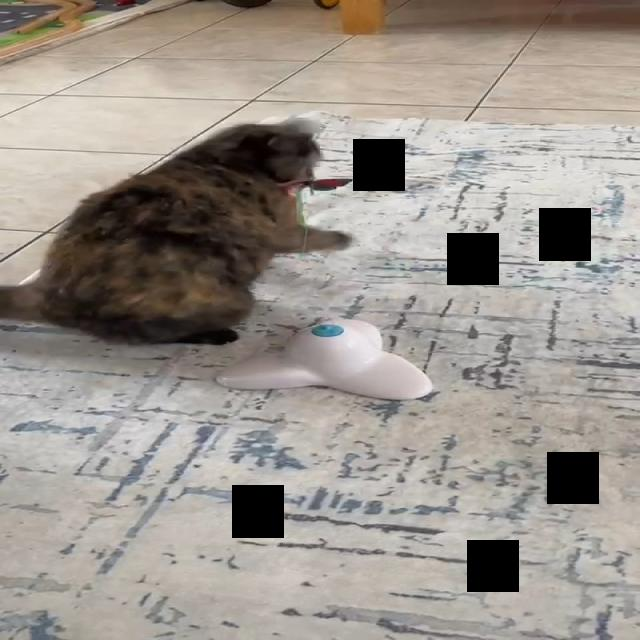authorized: (0, 122, 352, 346)
